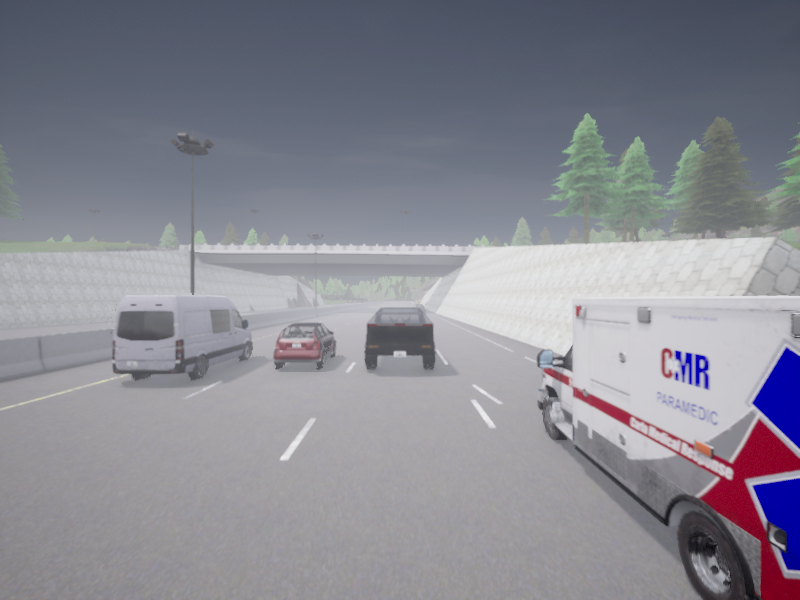vehicle: (537, 296, 799, 599), (112, 295, 252, 379), (364, 308, 435, 369), (273, 323, 335, 368), (413, 304, 424, 312)
